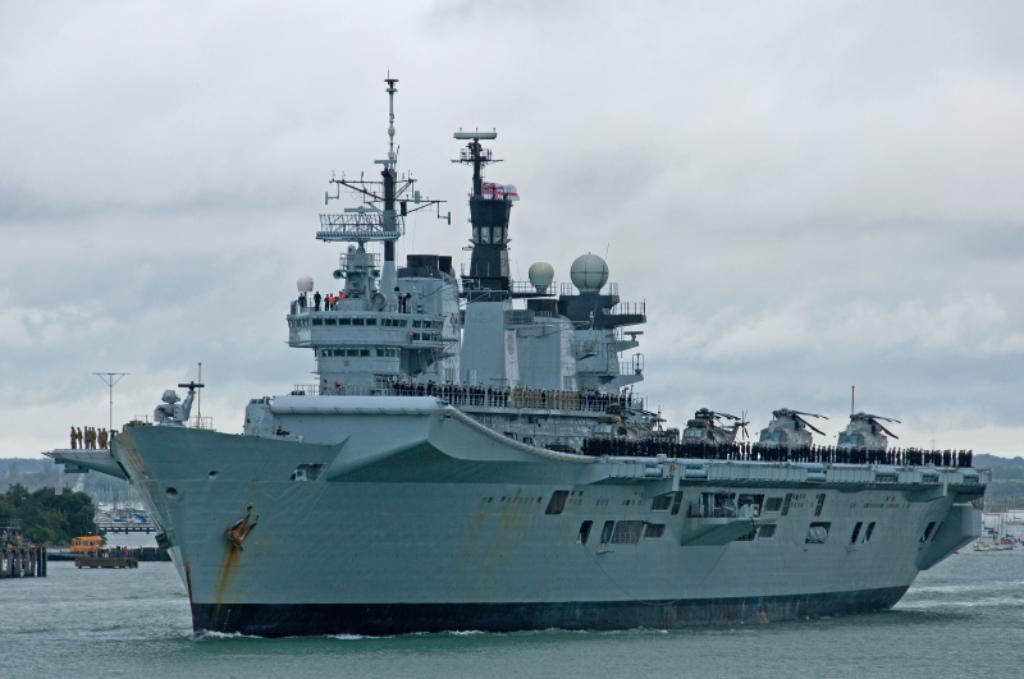Warship: (43, 66, 1001, 648)
